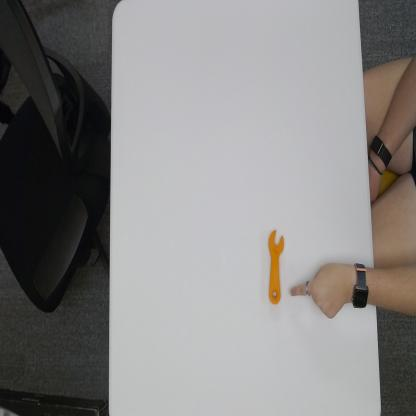Hand: (290, 257, 352, 325)
Screwdriver: (265, 225, 287, 306)
